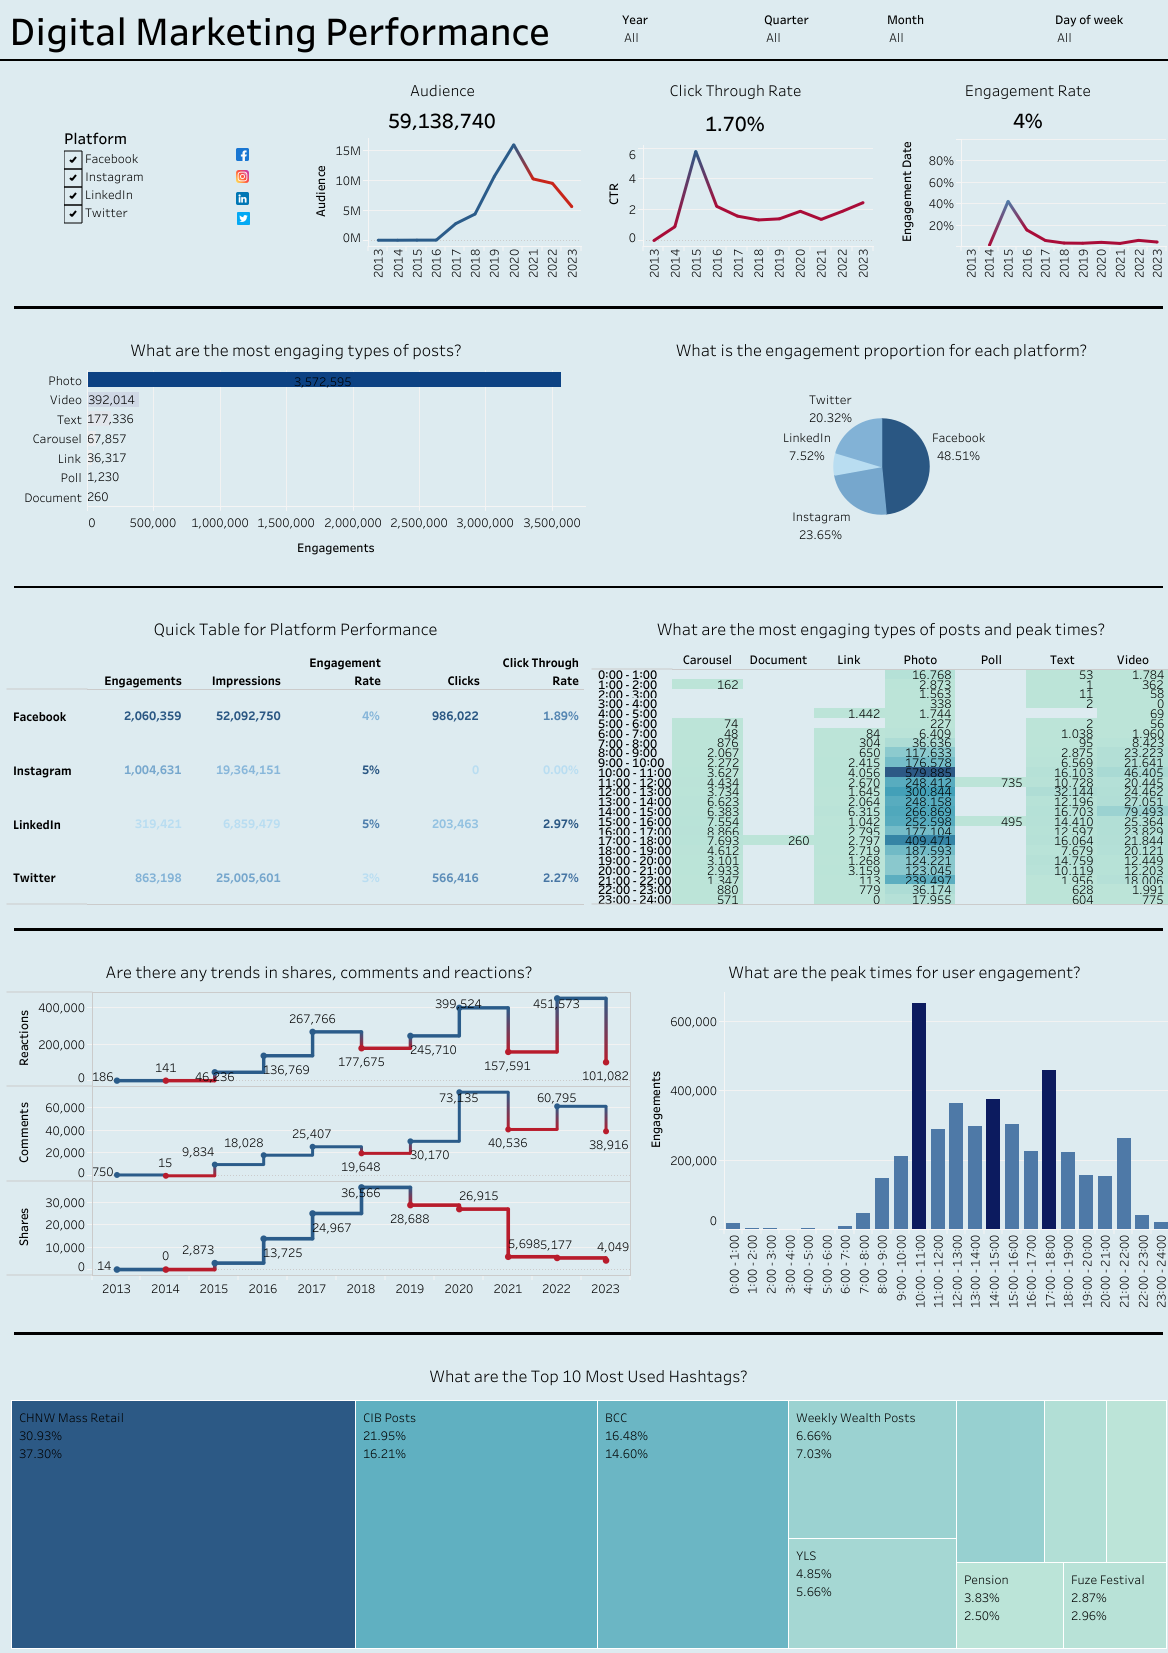

The page's visual inventory and layout, read from the dashboard file:
{"tool":"tableau","page":{"name":"Playgroup","canvas":[1169,1654],"ordinal":0},"visuals":[{"type":"text","box":[3,5,615,50]},{"type":"filter","title":"Trend in Reach","param":"[federated.17whm6x08fvyg7154okmh1mexkwz].[none:Year:ok]","box":[618,5,142,50]},{"type":"filter","title":"Trend in Reach","param":"[federated.17whm6x08fvyg7154okmh1mexkwz].[none:Quarter:ok]","box":[760,5,123,50]},{"type":"filter","title":"Trend in Reach","param":"[federated.17whm6x08fvyg7154okmh1mexkwz].[none:Month:ok]","box":[883,5,168,50]},{"type":"filter","title":"Trend in Reach","param":"[federated.17whm6x08fvyg7154okmh1mexkwz].[none:Calculation_282037934558076928:nk","box":[1051,5,123,50]},{"type":"filter","title":"peak_times_all","param":"[federated.17whm6x08fvyg7154okmh1mexkwz].[none:Network:nk]","box":[3,65,293,222]},{"type":"worksheet","title":"users","mark":"Automatic","box":[300,69,285,65]},{"type":"worksheet","title":"ctr","mark":"Automatic","box":[593,69,285,72]},{"type":"worksheet","title":"eng_rate_all","mark":"Automatic","box":[886,69,284,66]},{"type":"worksheet","title":"Trend in Reach","mark":"Line","rows":["Reach"],"cols":["Date"],"box":[300,134,285,149]},{"type":"worksheet","title":"emg_rate_trend","mark":"Automatic","rows":["Calculation_282037934582870021"],"cols":["Year"],"box":[886,135,284,148]},{"type":"worksheet","title":"ctr trend","mark":"Automatic","rows":["Calculation_52917303872376844"],"cols":["Year"],"box":[593,141,285,142]},{"type":"image","param":"Image/Facebook.png","box":[236,148,19,13]},{"type":"image","param":"Image/Instagram.png","box":[236,170,19,13]},{"type":"image","param":"Image/Linkedin.png","box":[236,192,19,13]},{"type":"image","param":"Image/Twitter.png","box":[237,212,19,13]},{"type":"worksheet","title":"eng_all","mark":"Automatic","rows":["Content Type"],"cols":["Engagements"],"box":[3,328,586,239]},{"type":"worksheet","title":"platform_all_prop","mark":"Pie","box":[589,328,585,239]},{"type":"worksheet","title":"table_all_eng_rate","mark":"Automatic","rows":["Network"],"box":[3,607,585.5,302]},{"type":"worksheet","title":"peak_times_all","mark":"Square","rows":["Calculation_282037934559055875"],"cols":["Content Type"],"box":[588.5,607,585.5,302]},{"type":"worksheet","title":"trend_social_likes","mark":"Line","rows":["Reactions","Comments","Shares"],"cols":["Year"],"box":[3,950,632,363]},{"type":"worksheet","title":"hour_all","mark":"Automatic","rows":["Engagements"],"cols":["Calculation_282037934559055875"],"box":[635,950,539,363]},{"type":"worksheet","title":"Top10mostusedtags","mark":"Automatic","box":[3,1354,1171,303]}]}

Visuals, with their boxes in screenshot pixels (x1, y1, x2, y2), scaled from the page's 1169x1654 canvas onto the 1168x1653 screenshot:
text: 3, 5, 617, 55
"Trend in Reach" filter: 617, 5, 759, 55
"Trend in Reach" filter: 759, 5, 882, 55
"Trend in Reach" filter: 882, 5, 1050, 55
"Trend in Reach" filter: 1050, 5, 1167, 55
"peak_times_all" filter: 3, 65, 296, 287
"users" worksheet: 300, 69, 584, 134
"ctr" worksheet: 592, 69, 877, 141
"eng_rate_all" worksheet: 885, 69, 1167, 135
"Trend in Reach" worksheet (Line marks): 300, 134, 584, 283
"emg_rate_trend" worksheet: 885, 135, 1167, 283
"ctr trend" worksheet: 592, 141, 877, 283
image: 236, 148, 255, 161
image: 236, 170, 255, 183
image: 236, 192, 255, 205
image: 237, 212, 256, 225
"eng_all" worksheet: 3, 328, 588, 567
"platform_all_prop" worksheet (Pie marks): 588, 328, 1167, 567
"table_all_eng_rate" worksheet: 3, 607, 588, 908
"peak_times_all" worksheet (Square marks): 588, 607, 1167, 908
"trend_social_likes" worksheet (Line marks): 3, 949, 634, 1312
"hour_all" worksheet: 634, 949, 1167, 1312
"Top10mostusedtags" worksheet: 3, 1353, 1167, 1652
